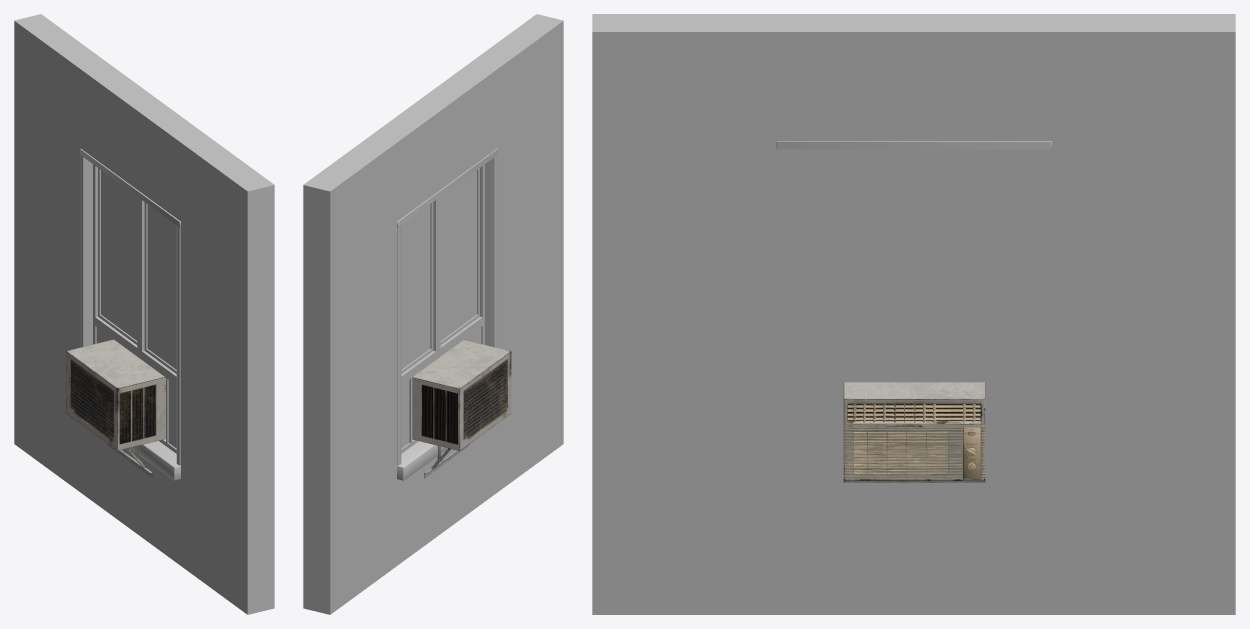
File: SM_BuildingA_Window_3m_L.fbx
The picture shows the model from 3 angles, left to right: view 1: azimuth 30°, elevation 25°; view 2: azimuth 150°, elevation 25°; view 3: azimuth 270°, elevation 25°; orthographic projection. The views are drawn at different scales.
Parts seen in each view (by area): view 1: SM_BuildingA_Window_3m_L_LOD0; view 2: SM_BuildingA_Window_3m_L_LOD0; view 3: SM_BuildingA_Window_3m_L_LOD0.
Boxes of the visible parts, left/top/right/bottom form: SM_BuildingA_Window_3m_L_LOD0: left=14, top=14, right=274, bottom=614; SM_BuildingA_Window_3m_L_LOD0: left=303, top=14, right=563, bottom=614; SM_BuildingA_Window_3m_L_LOD0: left=592, top=14, right=1235, bottom=614.
Bounding box in the file's own units: 68.69 × 300 × 300.
5 materials, 1 textured.
